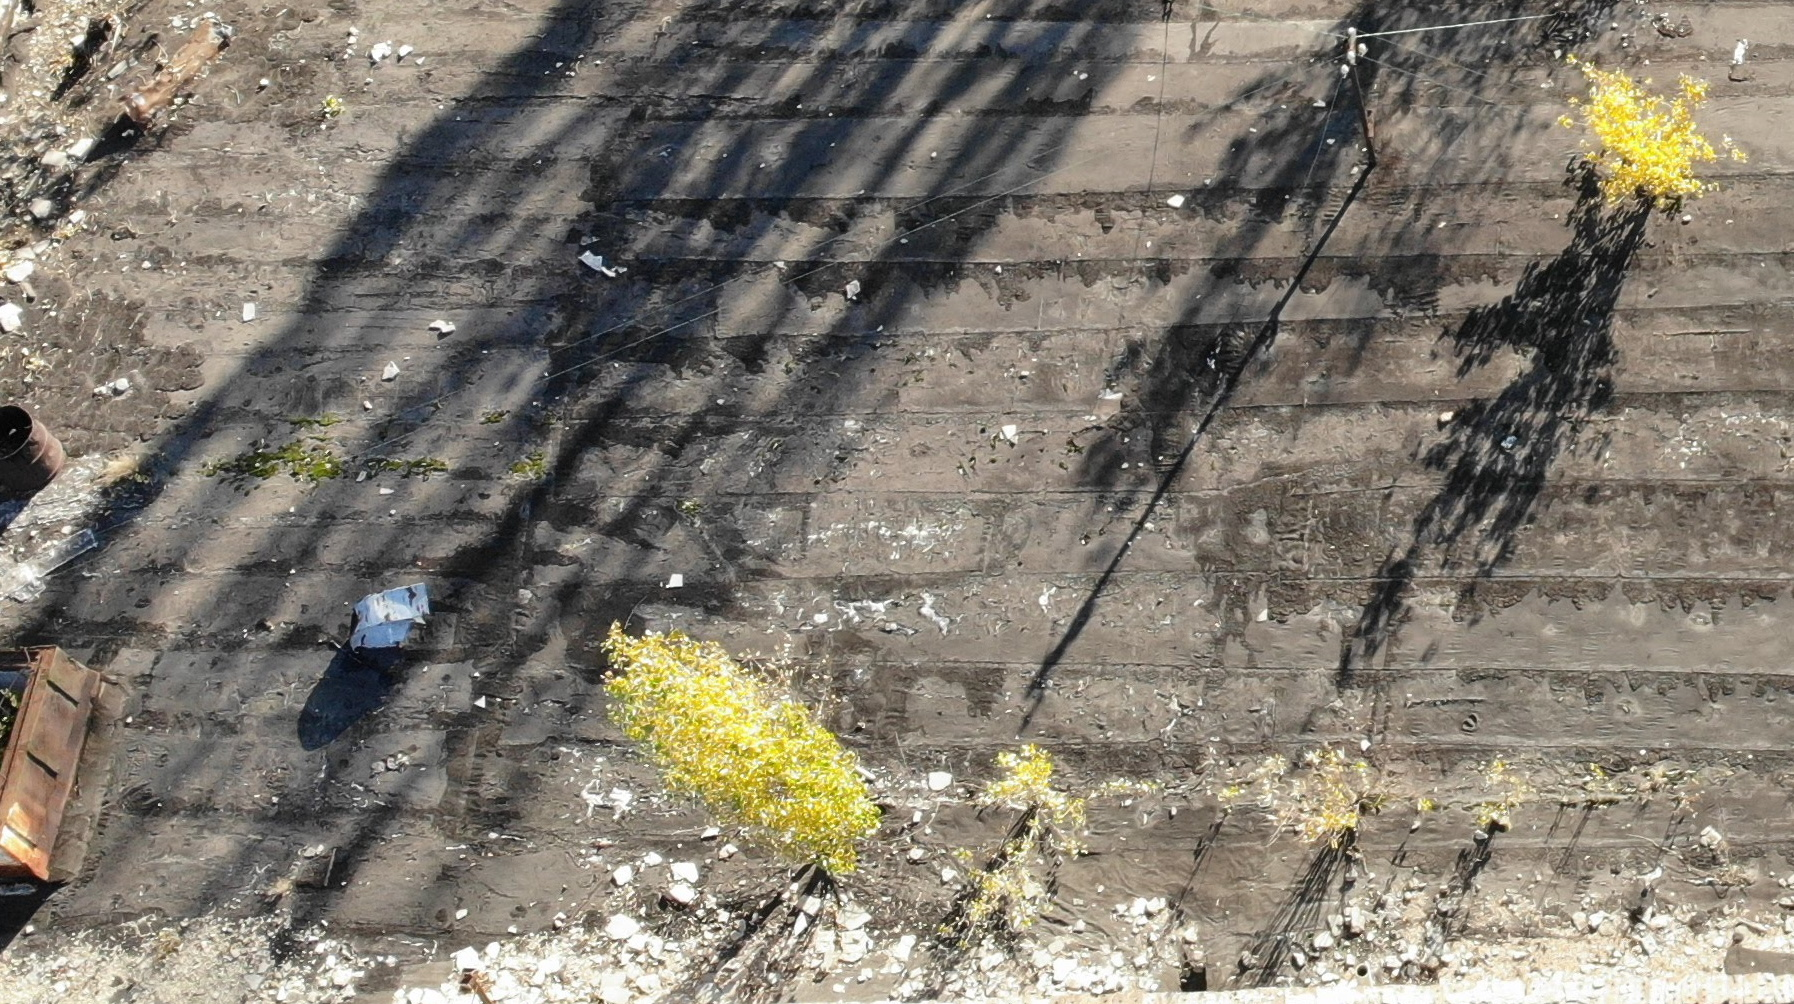tree: (564, 589, 915, 914), (1535, 34, 1747, 248), (944, 705, 1093, 921), (1216, 727, 1413, 877)
